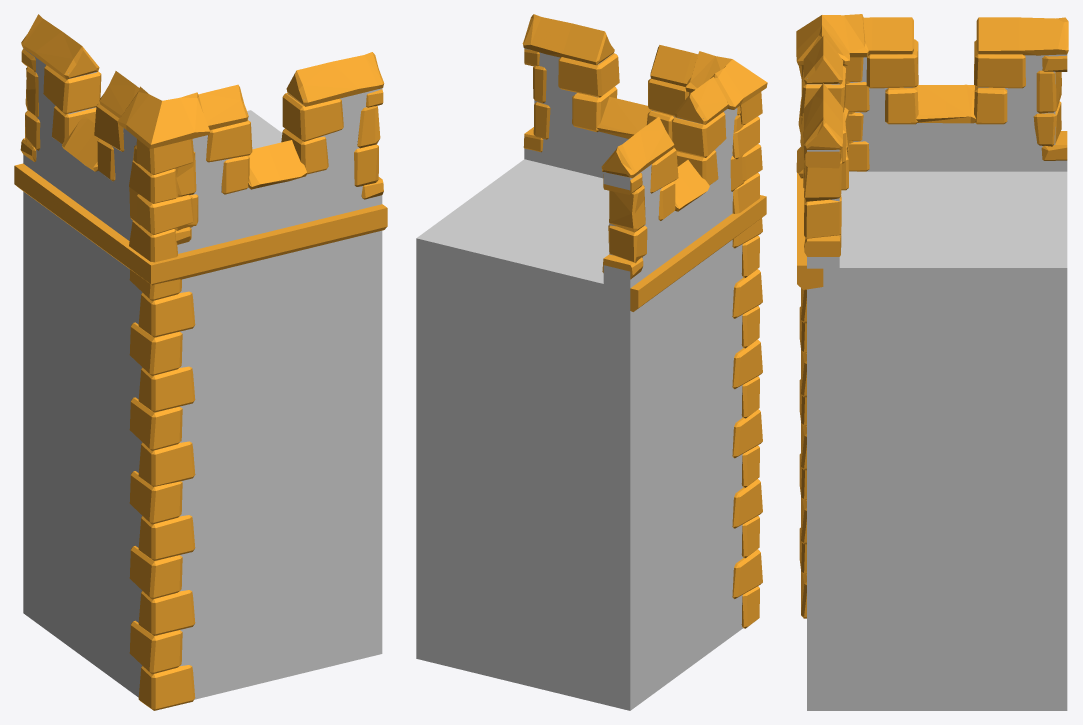
File: SM_Rampart_3x6m_Battlement_Corner_A_Fantasy_Base.fbx
The picture shows the model from 3 angles, left to right: view 1: azimuth 30°, elevation 25°; view 2: azimuth 150°, elevation 25°; view 3: azimuth 270°, elevation 25°; orthographic projection. The views are drawn at different scales.
Parts seen in each view (by area): view 1: SM_Rampart_3x6m_Battlement_Corner_A_Fantasy_Base; view 2: SM_Rampart_3x6m_Battlement_Corner_A_Fantasy_Base; view 3: SM_Rampart_3x6m_Battlement_Corner_A_Fantasy_Base.
Part boxes in pixels (box(x1,y1,x2,y2)): SM_Rampart_3x6m_Battlement_Corner_A_Fantasy_Base: box(14, 14, 387, 710); SM_Rampart_3x6m_Battlement_Corner_A_Fantasy_Base: box(416, 14, 767, 710); SM_Rampart_3x6m_Battlement_Corner_A_Fantasy_Base: box(796, 14, 1068, 710).
Size of the model in its own units: 3.35 by 8.05 by 3.35.
